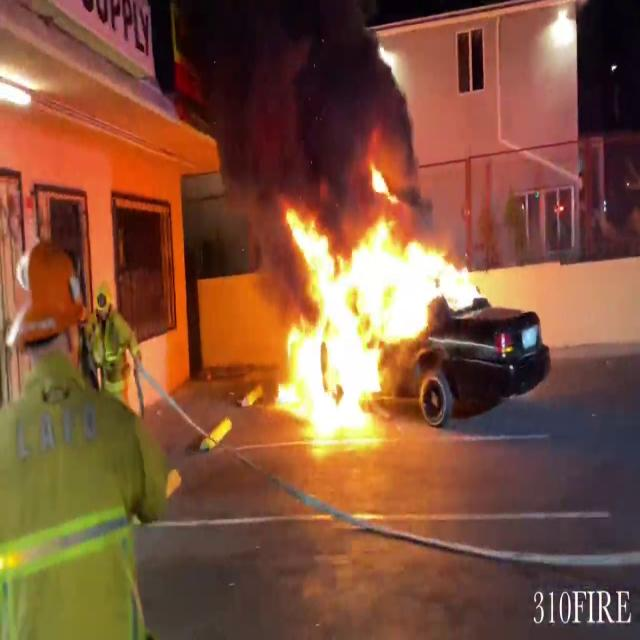Fire: (261, 157, 489, 440)
